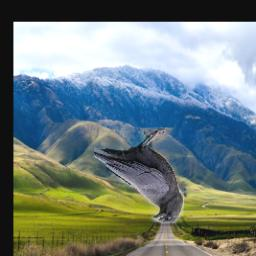Crow: (94, 128, 184, 224)
